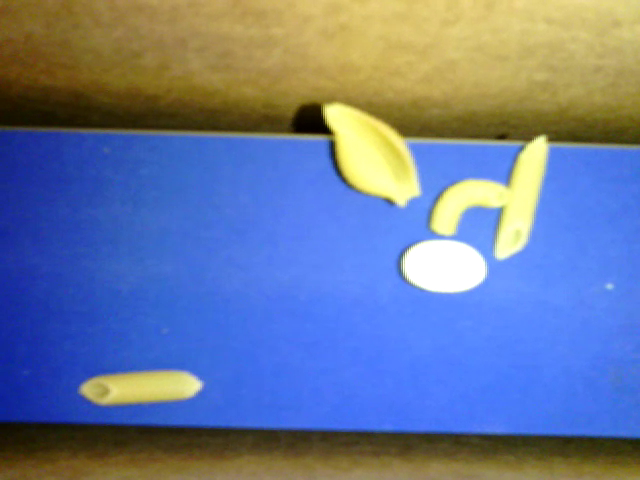elbow: (427, 178, 509, 239)
penne: (493, 134, 550, 260), (77, 369, 204, 407)
shell: (320, 100, 421, 208)
